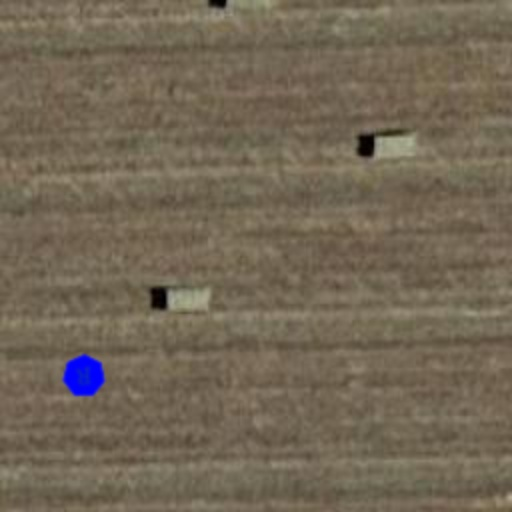heptagon: (58, 350, 110, 402)
